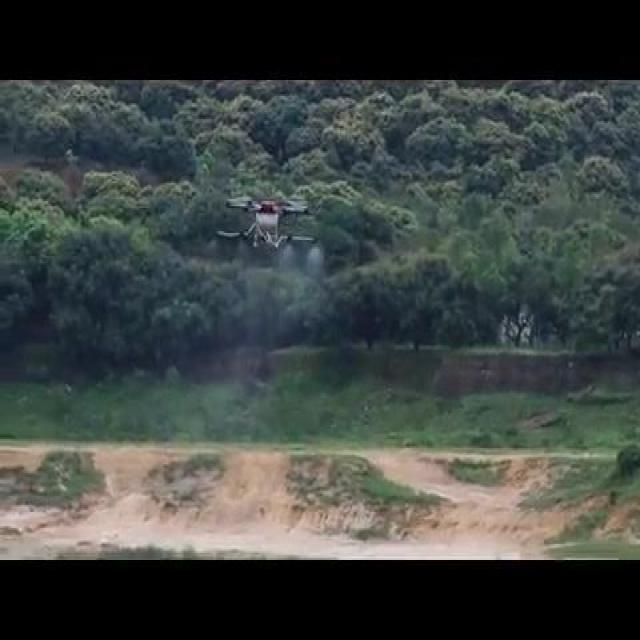UAV: (220, 190, 316, 251)
